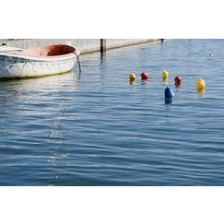buoy: (174, 75, 182, 83), (141, 72, 148, 79)
